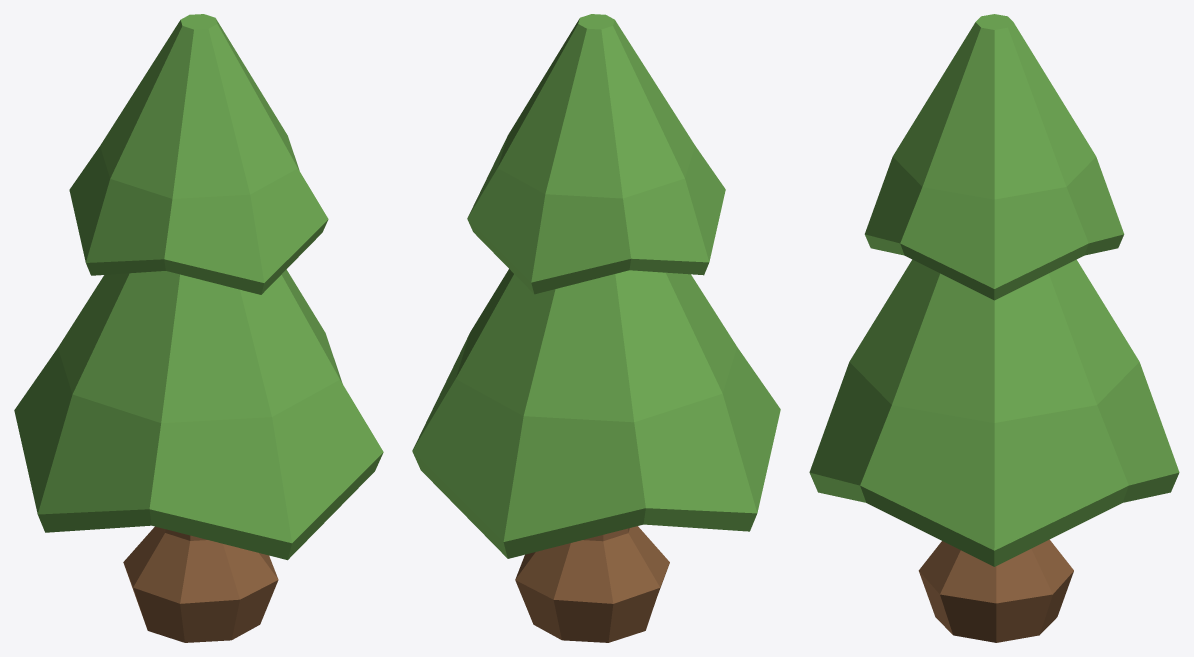
Rendered from Tree2.fbx.
The picture shows the model from 3 angles, left to right: view 1: azimuth 30°, elevation 25°; view 2: azimuth 150°, elevation 25°; view 3: azimuth 270°, elevation 25°; orthographic projection.
Parts seen in each view (by area): view 1: Cube.025, Cube.024, Cube.023; view 2: Cube.025, Cube.024, Cube.023; view 3: Cube.025, Cube.024, Cube.023.
Part boxes in pixels (box(x1,y1,x2,y2)): Cube.025: box(14, 269, 383, 560); Cube.024: box(69, 14, 328, 294); Cube.023: box(123, 526, 278, 642); Cube.025: box(412, 269, 780, 558); Cube.024: box(467, 14, 725, 294); Cube.023: box(515, 526, 669, 642); Cube.025: box(809, 259, 1179, 566); Cube.024: box(864, 14, 1124, 300); Cube.023: box(918, 539, 1073, 642).
Size of the model in its own units: 239 by 424 by 239.
